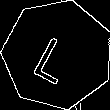L_NE: (32, 25, 83, 84)
